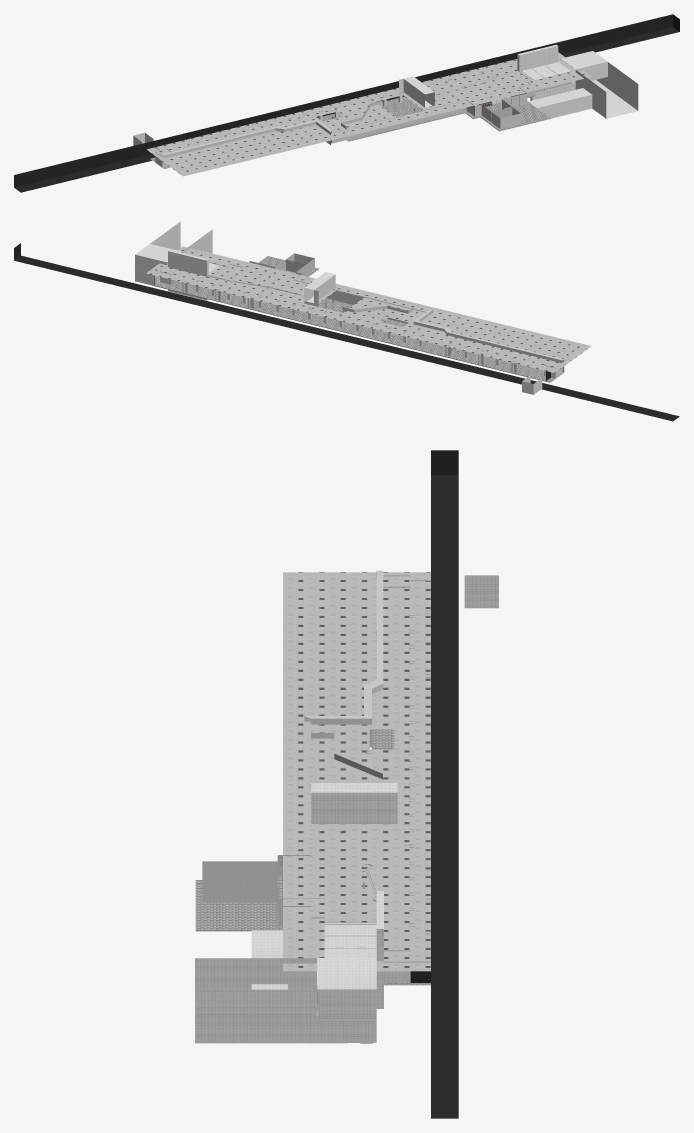
File: platform_south_bound.fbx
3 views of the same model, one above another, from view 1: azimuth 30°, elevation 25°; view 2: azimuth 150°, elevation 25°; view 3: azimuth 270°, elevation 25° (orthographic). The views are drawn at different scales.
Parts seen in each view (by area): view 1: southbound_ceiling_geo, tunnel_south_bound_geo, pCube63, polySurface184, polySurface173, polySurface185, pCube61, polySurface179, sb_wall_geo09, pCube62; view 2: southbound_ceiling_geo, tunnel_south_bound_geo, polySurface173, polySurface184, pCube63, square_pillar_01_geo, pCube61, polySurface185, polySurface179; view 3: southbound_ceiling_geo, tunnel_south_bound_geo, pCube63, polySurface184, polySurface185, polySurface179, polySurface173, sb_wall_geo09, polySurface23063.
Part boxes in pixels (left/top/right/bottom): southbound_ceiling_geo: left=146, top=52, right=591, bottom=176; tunnel_south_bound_geo: left=14, top=14, right=679, bottom=192; pCube63: left=528, top=62, right=638, bottom=118; polySurface184: left=162, top=71, right=570, bottom=168; polySurface173: left=150, top=82, right=572, bottom=168; polySurface185: left=561, top=51, right=607, bottom=83; pCube61: left=517, top=44, right=558, bottom=71; polySurface179: left=399, top=76, right=434, bottom=107; sb_wall_geo09: left=519, top=62, right=570, bottom=80; pCube62: left=530, top=81, right=575, bottom=100; southbound_ceiling_geo: left=146, top=246, right=591, bottom=372; tunnel_south_bound_geo: left=14, top=243, right=679, bottom=421; polySurface173: left=153, top=256, right=563, bottom=382; polySurface184: left=209, top=253, right=564, bottom=372; pCube63: left=135, top=221, right=212, bottom=285; square_pillar_01_geo: left=182, top=280, right=515, bottom=365; pCube61: left=168, top=250, right=208, bottom=300; polySurface185: left=135, top=244, right=181, bottom=272; polySurface179: left=304, top=272, right=335, bottom=306; southbound_ceiling_geo: left=283, top=572, right=430, bottom=971; tunnel_south_bound_geo: left=431, top=450, right=458, bottom=1118; pCube63: left=195, top=930, right=376, bottom=1043; polySurface184: left=202, top=570, right=383, bottom=927; polySurface185: left=317, top=958, right=376, bottom=1019; polySurface179: left=311, top=783, right=397, bottom=823; polySurface173: left=195, top=729, right=430, bottom=985; sb_wall_geo09: left=324, top=922, right=376, bottom=957; polySurface23063: left=464, top=575, right=498, bottom=608.
Bounding box in the file's own units: 19002 × 1112 × 3797.
